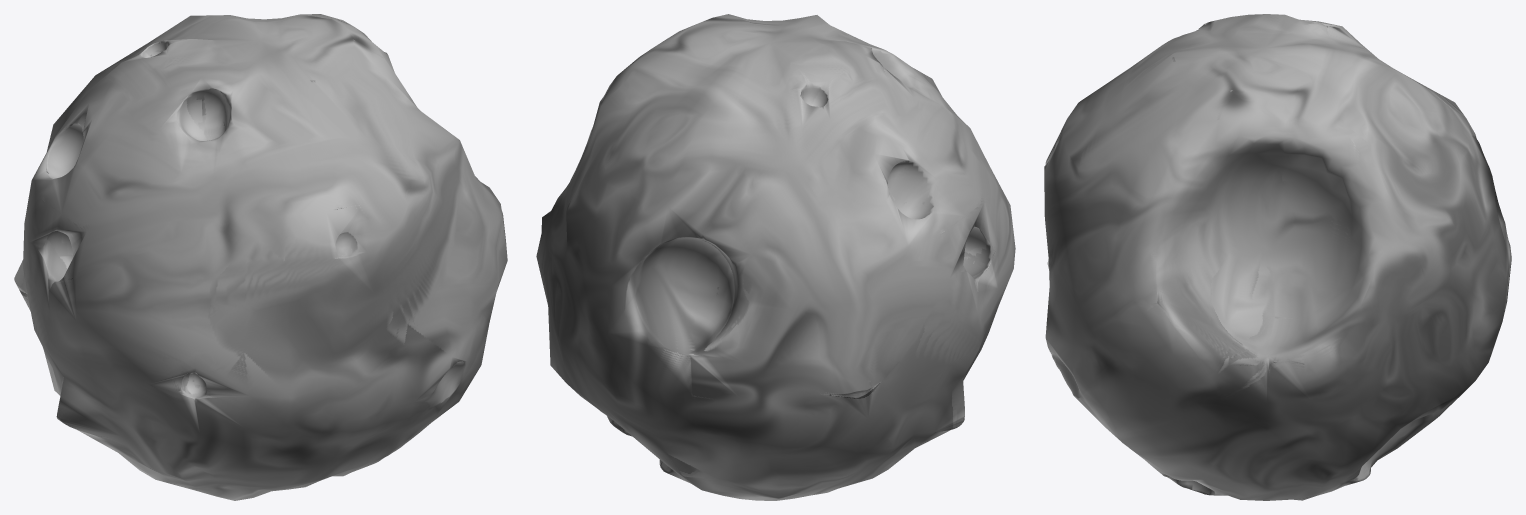
The model's file is Moon.fbx.
The picture shows the model from 3 angles, left to right: view 1: azimuth 30°, elevation 25°; view 2: azimuth 150°, elevation 25°; view 3: azimuth 270°, elevation 25°; orthographic projection.
Parts seen in each view (by area): view 1: Moon; view 2: Moon; view 3: Moon.
Part boxes in pixels (x1,y1,x2,y2): Moon: (14, 14, 507, 500); Moon: (536, 14, 1015, 500); Moon: (1044, 14, 1511, 500).
Bounding box in the file's own units: 196 × 192 × 191.
